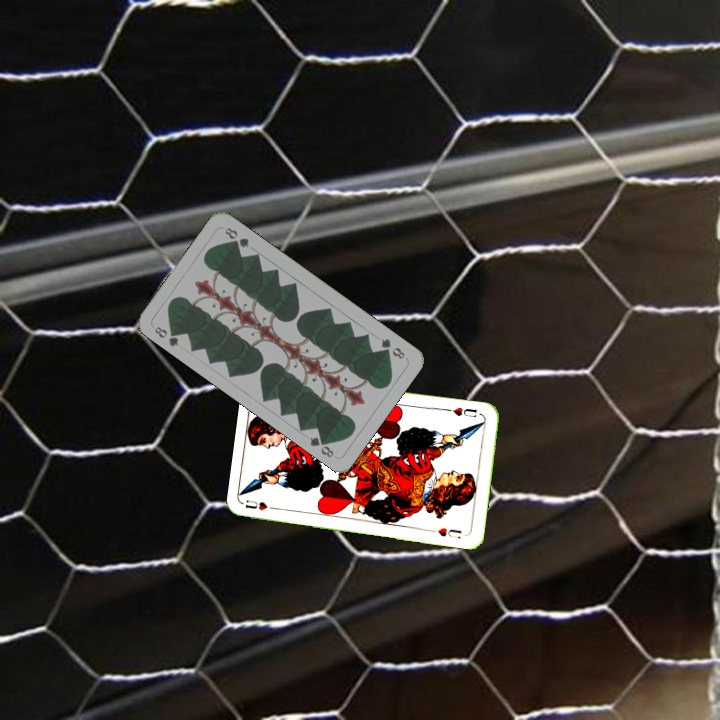G8: (377, 334, 408, 362), (150, 322, 182, 349)
HU: (241, 496, 281, 513), (443, 403, 480, 420)
